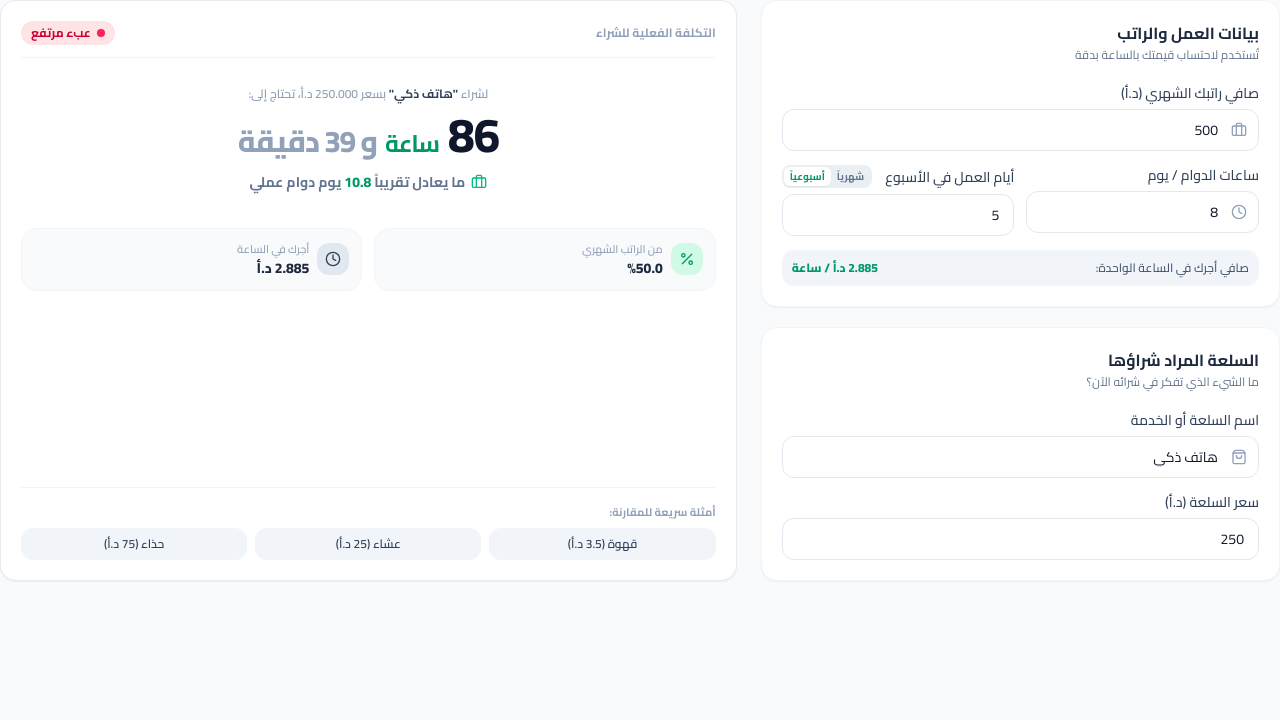
Test case: WorkHoursCalculator component › clamps work days per week to maximum 7 in weekly mode
Replace the text in the field labelled "أيام العمل في الأسبوع" with "10" at {"x": 898, "y": 215}, box [782,194,1014,236]
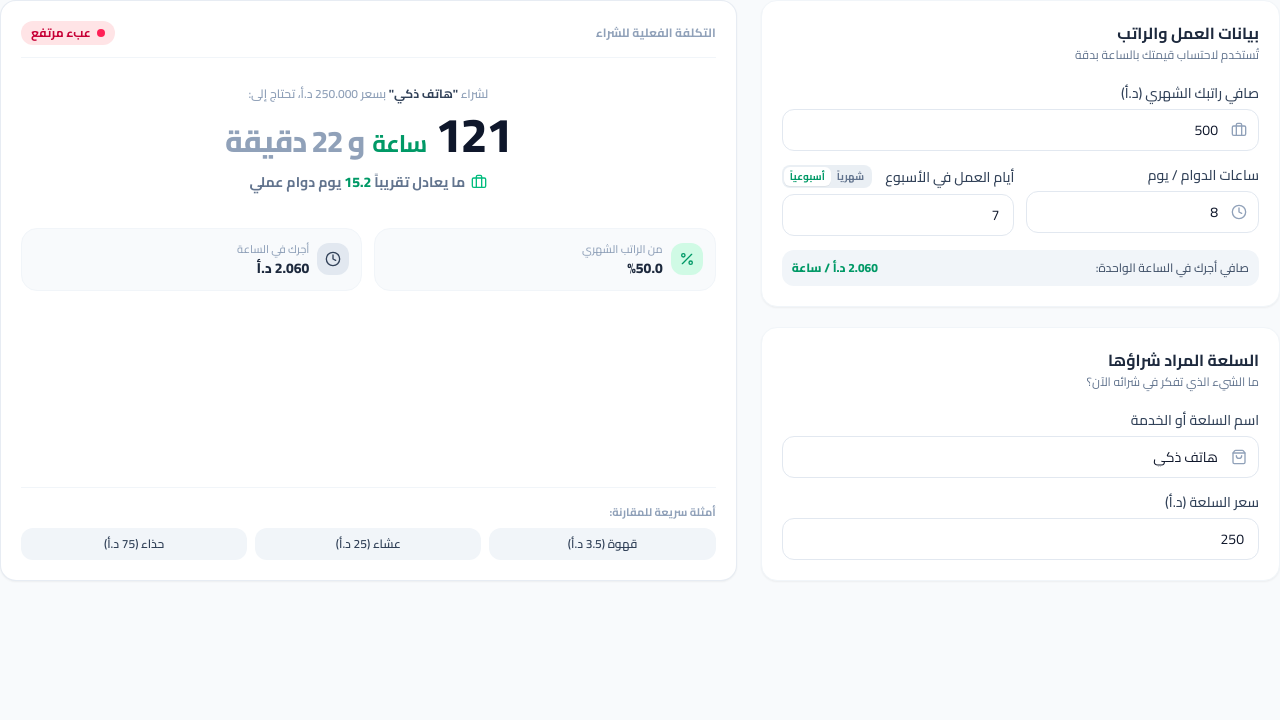
Now the field labelled "أيام العمل في الأسبوع" holds "7", box [782,194,1014,236]
